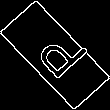P_SW: (23, 24, 87, 86)
